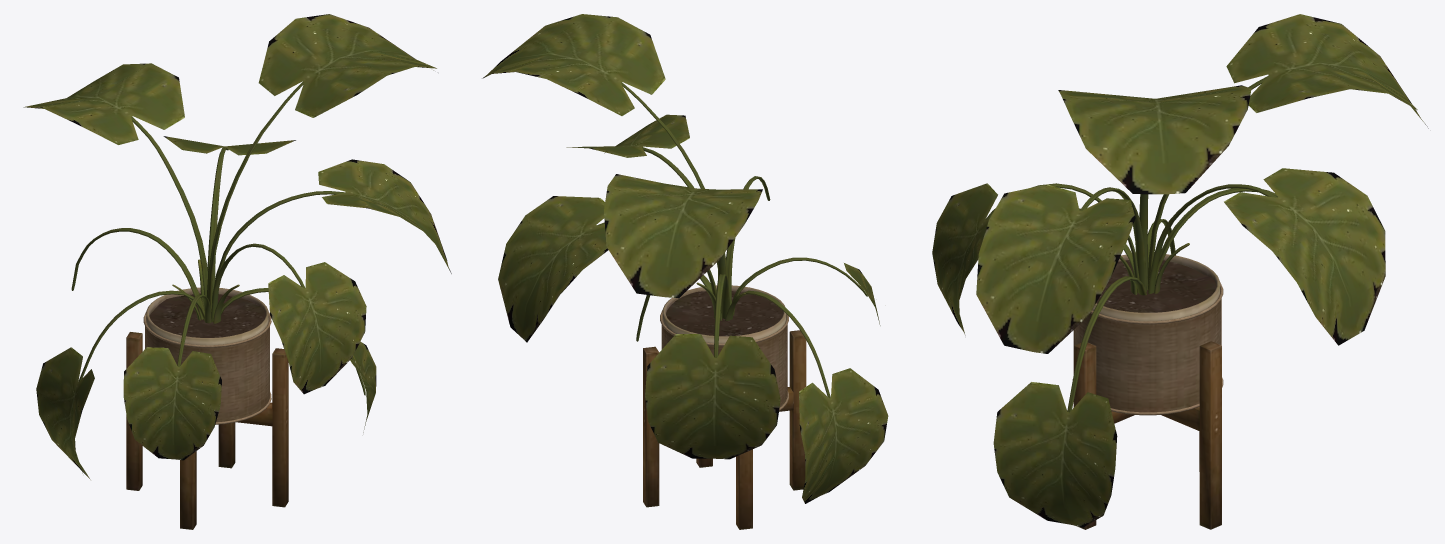
File: SM_PlantSet01_822494.glb
3 views of the same model, side by side, from view 1: azimuth 30°, elevation 25°; view 2: azimuth 150°, elevation 25°; view 3: azimuth 270°, elevation 25° (orthographic). The views are drawn at different scales.
Bounding box in the file's own units: 1.09 × 1.14 × 1.06.
1 material, 1 textured.
